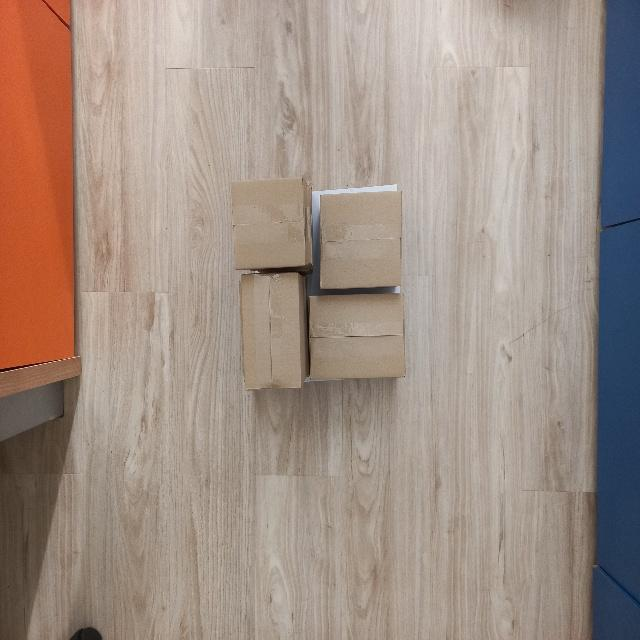box: (306, 293, 408, 384), (316, 189, 405, 289), (235, 272, 306, 392), (226, 178, 313, 270)
